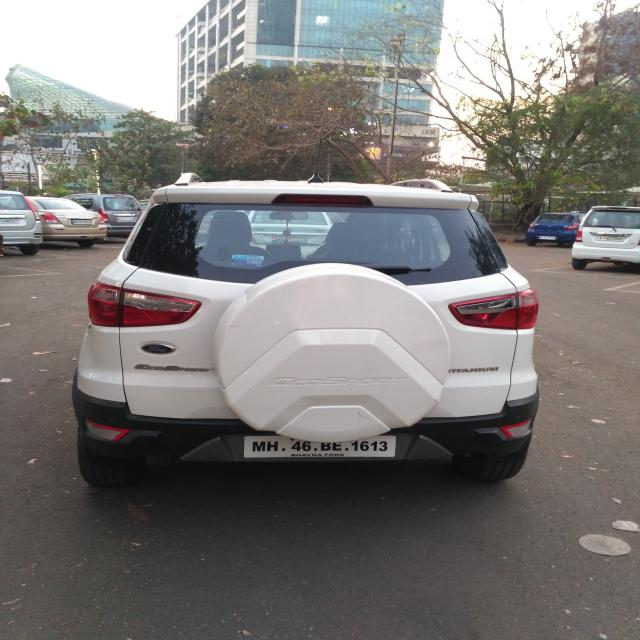Number-Plate: (243, 430, 402, 463)
